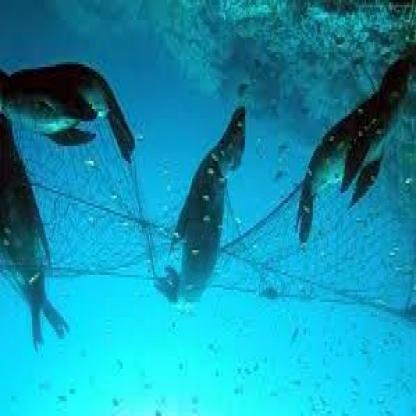net: (215, 152, 416, 316), (13, 124, 183, 307)
